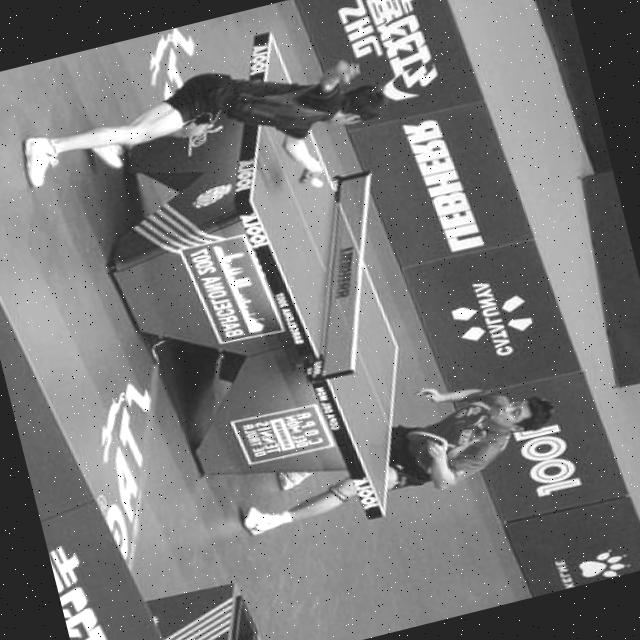ping-pong-ball: (310, 173, 326, 188)
